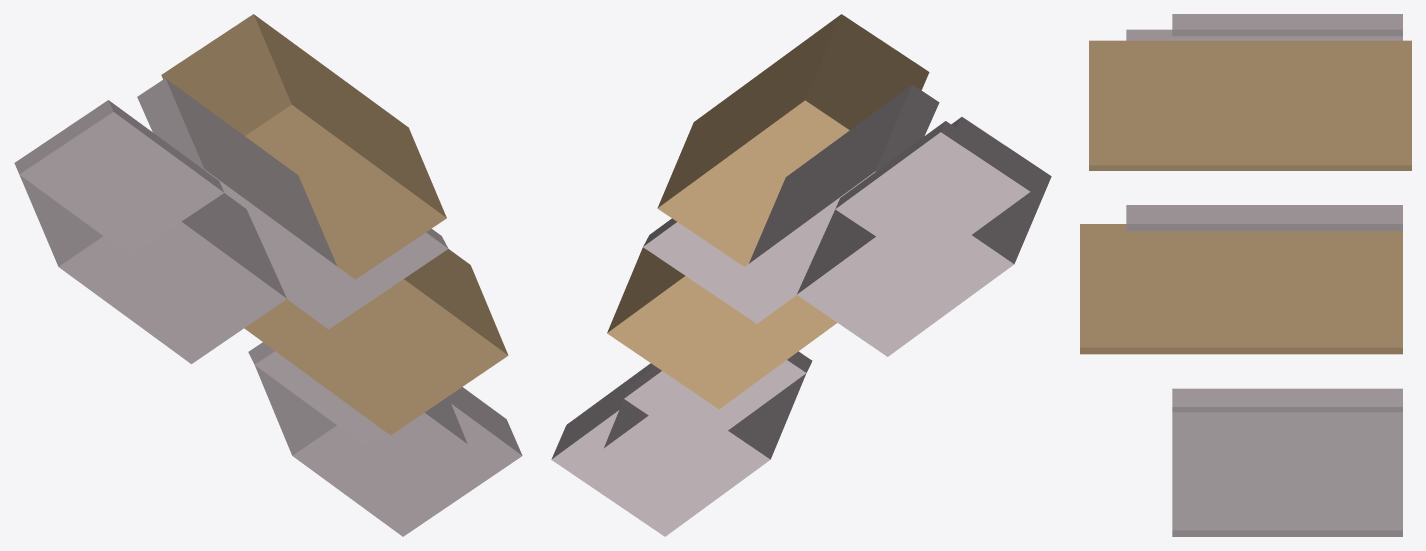
The picture shows the model from 3 angles, left to right: view 1: azimuth 30°, elevation 25°; view 2: azimuth 150°, elevation 25°; view 3: azimuth 270°, elevation 25°; orthographic projection. The views are drawn at different scales.
Visible parts, largest first — view 1: 0_2_2_3_0_0_0_3_0; view 2: 0_2_2_3_0_0_0_3_0; view 3: 0_2_2_3_0_0_0_3_0.
Boxes of the visible parts, x1=… form: 0_2_2_3_0_0_0_3_0: x1=14, y1=14, x2=522, y2=536; 0_2_2_3_0_0_0_3_0: x1=551, y1=14, x2=1051, y2=536; 0_2_2_3_0_0_0_3_0: x1=1080, y1=14, x2=1411, y2=536.
Size of the model in its own units: 31.05 by 33.37 by 21.58.
